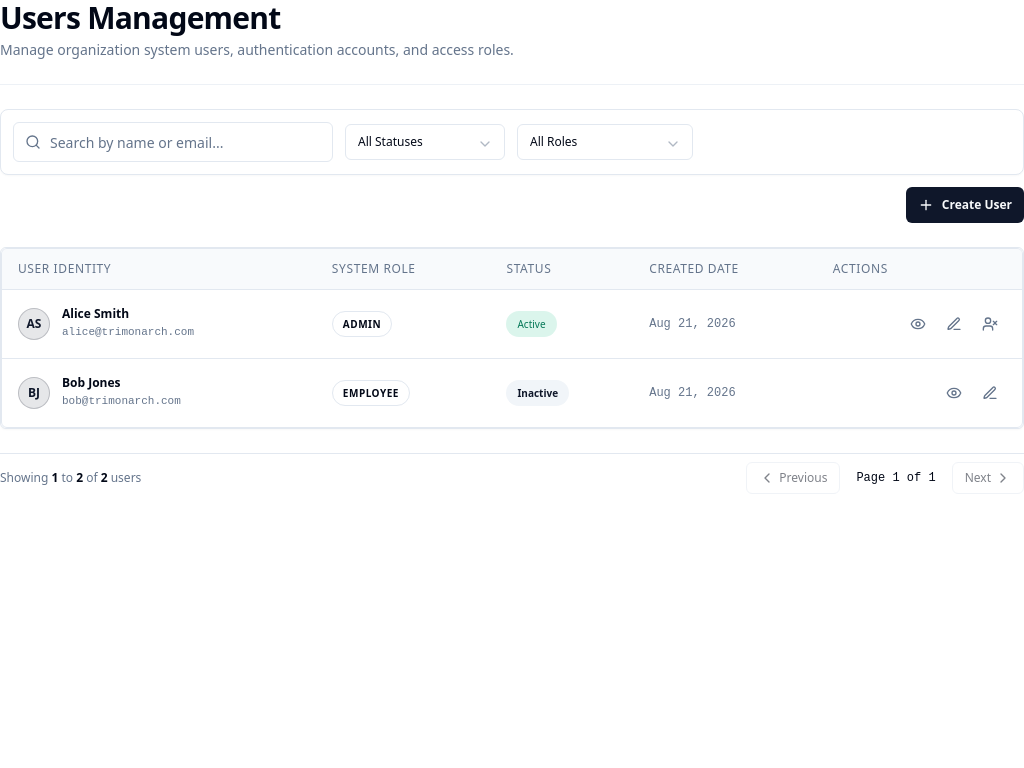
Test case: User Management Suite › opens Create User modal when Create User button is clicked
Click the button "Create User".
click(965, 205)  # box [906,187,1023,223]
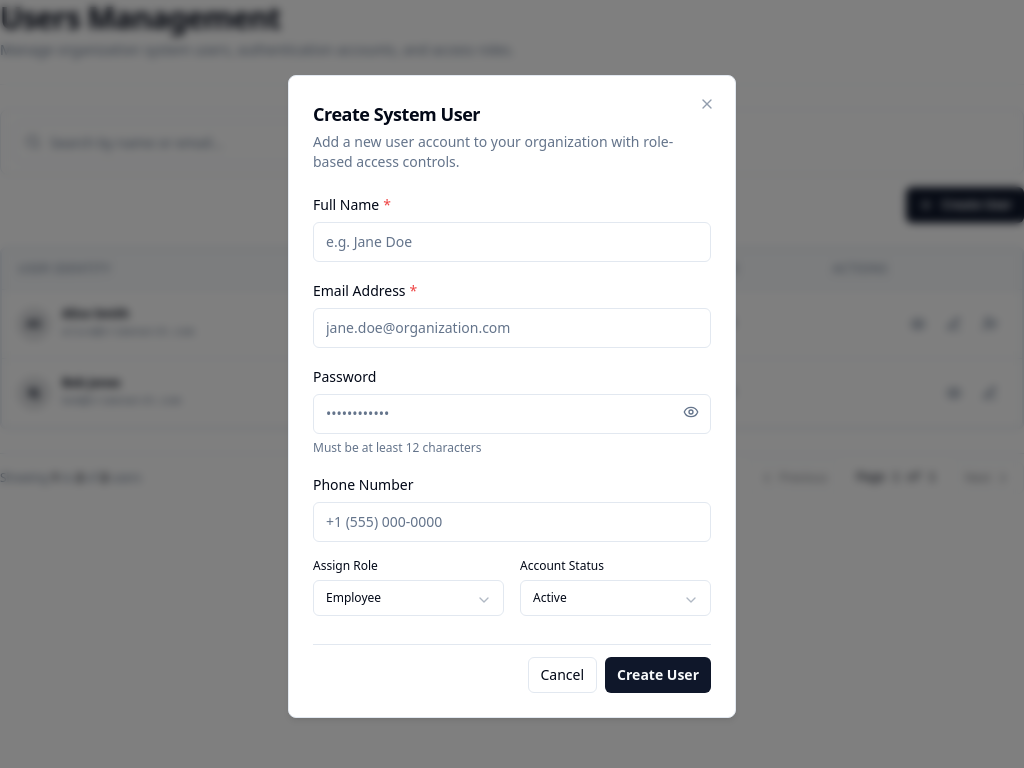
expect the heading "Create System User" is shown: met, box [313,102,480,126]
